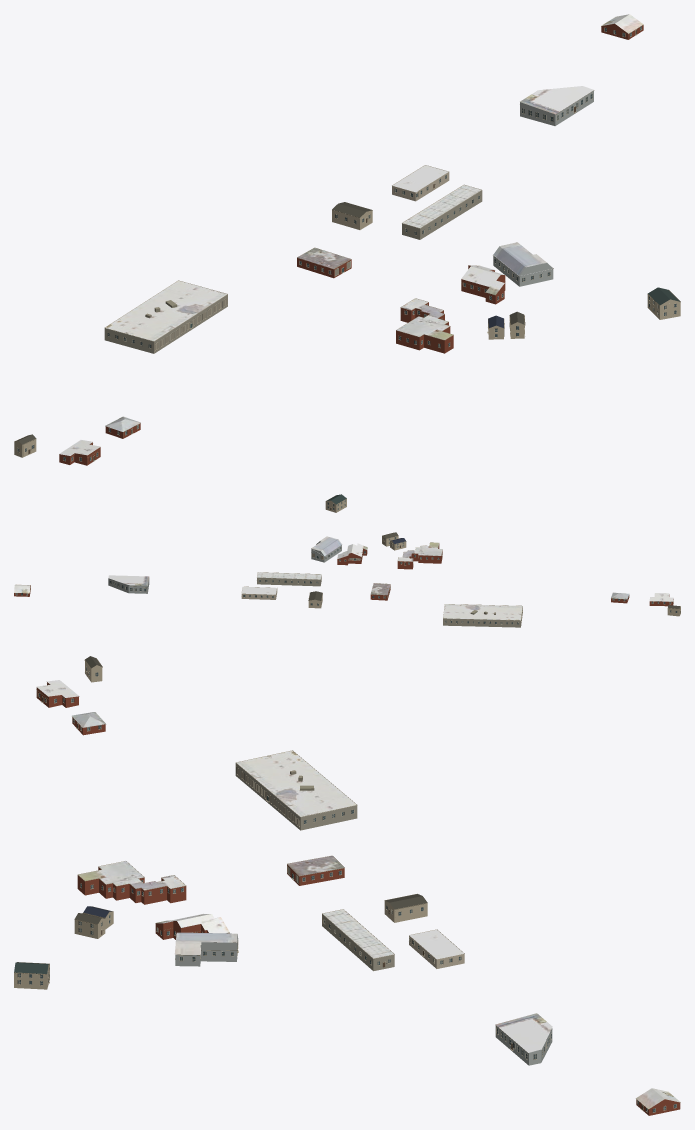
3 views of the same model, one above another, from view 1: azimuth 30°, elevation 25°; view 2: azimuth 150°, elevation 25°; view 3: azimuth 270°, elevation 25° (orthographic). The views are drawn at different scales.
Parts seen in each view (by area): view 1: -6_-1_270512561_0, -6_-1_270512563_2, -6_-1_271951876_9, -6_-1_271668695_5; view 2: -6_-1_270512561_0, -6_-1_271951876_9, -6_-1_270512563_2, -6_-1_271668695_5; view 3: -6_-1_270512561_0, -6_-1_270512563_2, -6_-1_271951876_9, -6_-1_271668695_5.
Part boxes in pixels (x1,y1,x2,y2): -6_-1_270512561_0: (14, 14, 680, 465); -6_-1_270512563_2: (14, 202, 680, 457); -6_-1_271951876_9: (104, 190, 482, 353); -6_-1_271668695_5: (493, 91, 593, 286); -6_-1_270512561_0: (14, 495, 680, 624); -6_-1_271951876_9: (257, 576, 522, 627); -6_-1_270512563_2: (308, 494, 680, 616); -6_-1_271668695_5: (108, 541, 341, 593); -6_-1_270512561_0: (14, 658, 680, 1115); -6_-1_270512563_2: (14, 656, 427, 989); -6_-1_271951876_9: (235, 763, 394, 971); -6_-1_271668695_5: (175, 934, 552, 1065).
Bounding box in the file's own units: 460 × 17.11 × 278.
16 materials, 1 textured.
